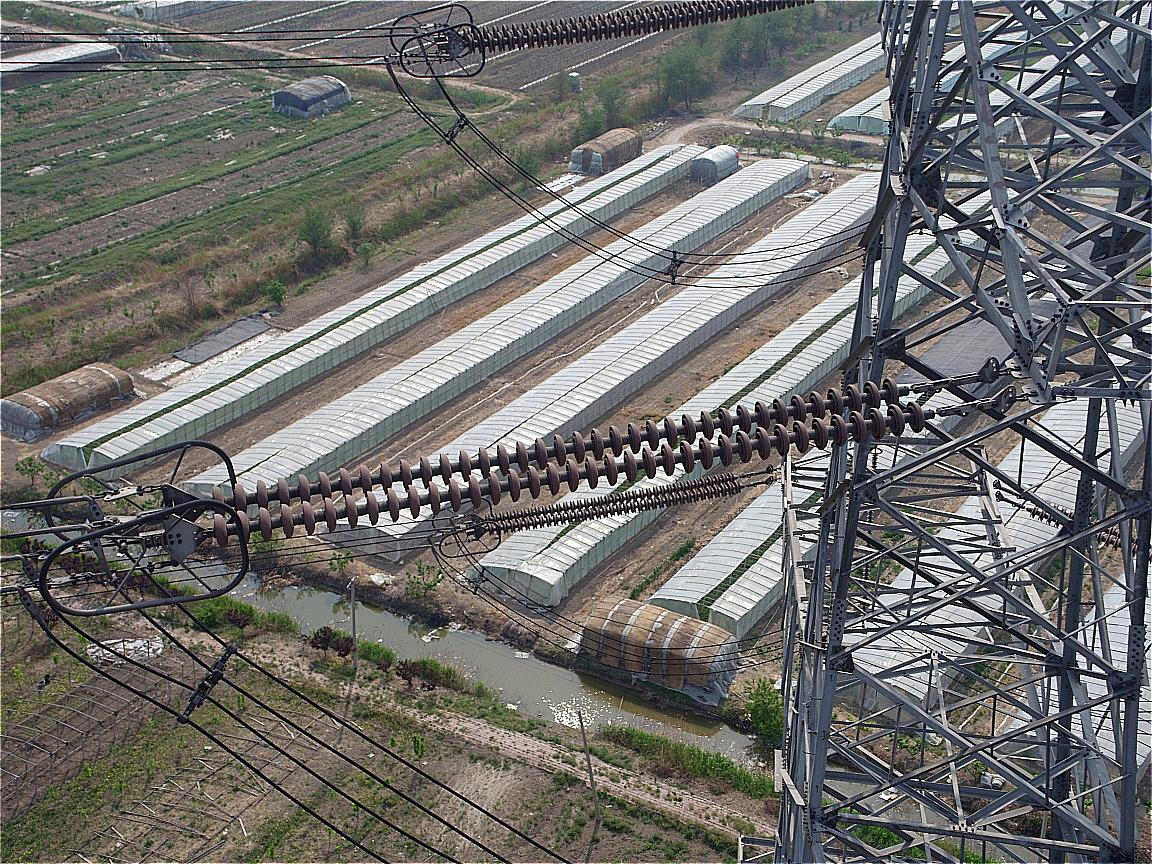insultor1: (181, 369, 950, 559)
insultor2: (466, 467, 747, 541)
